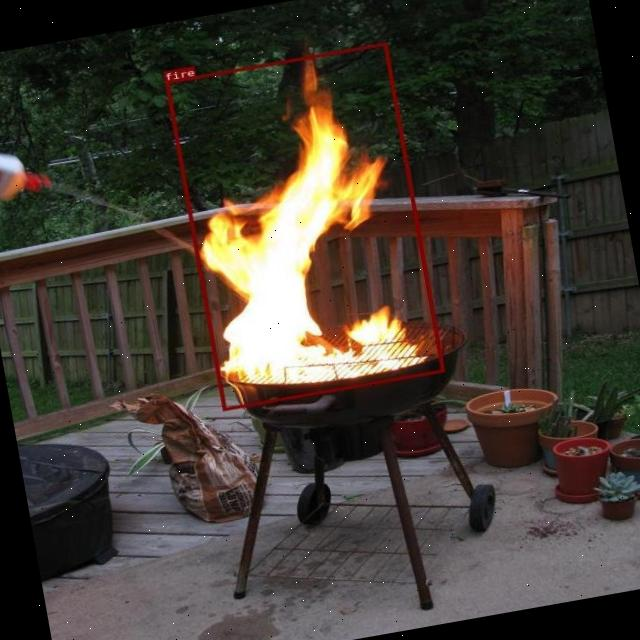fire: (164, 42, 444, 410)
